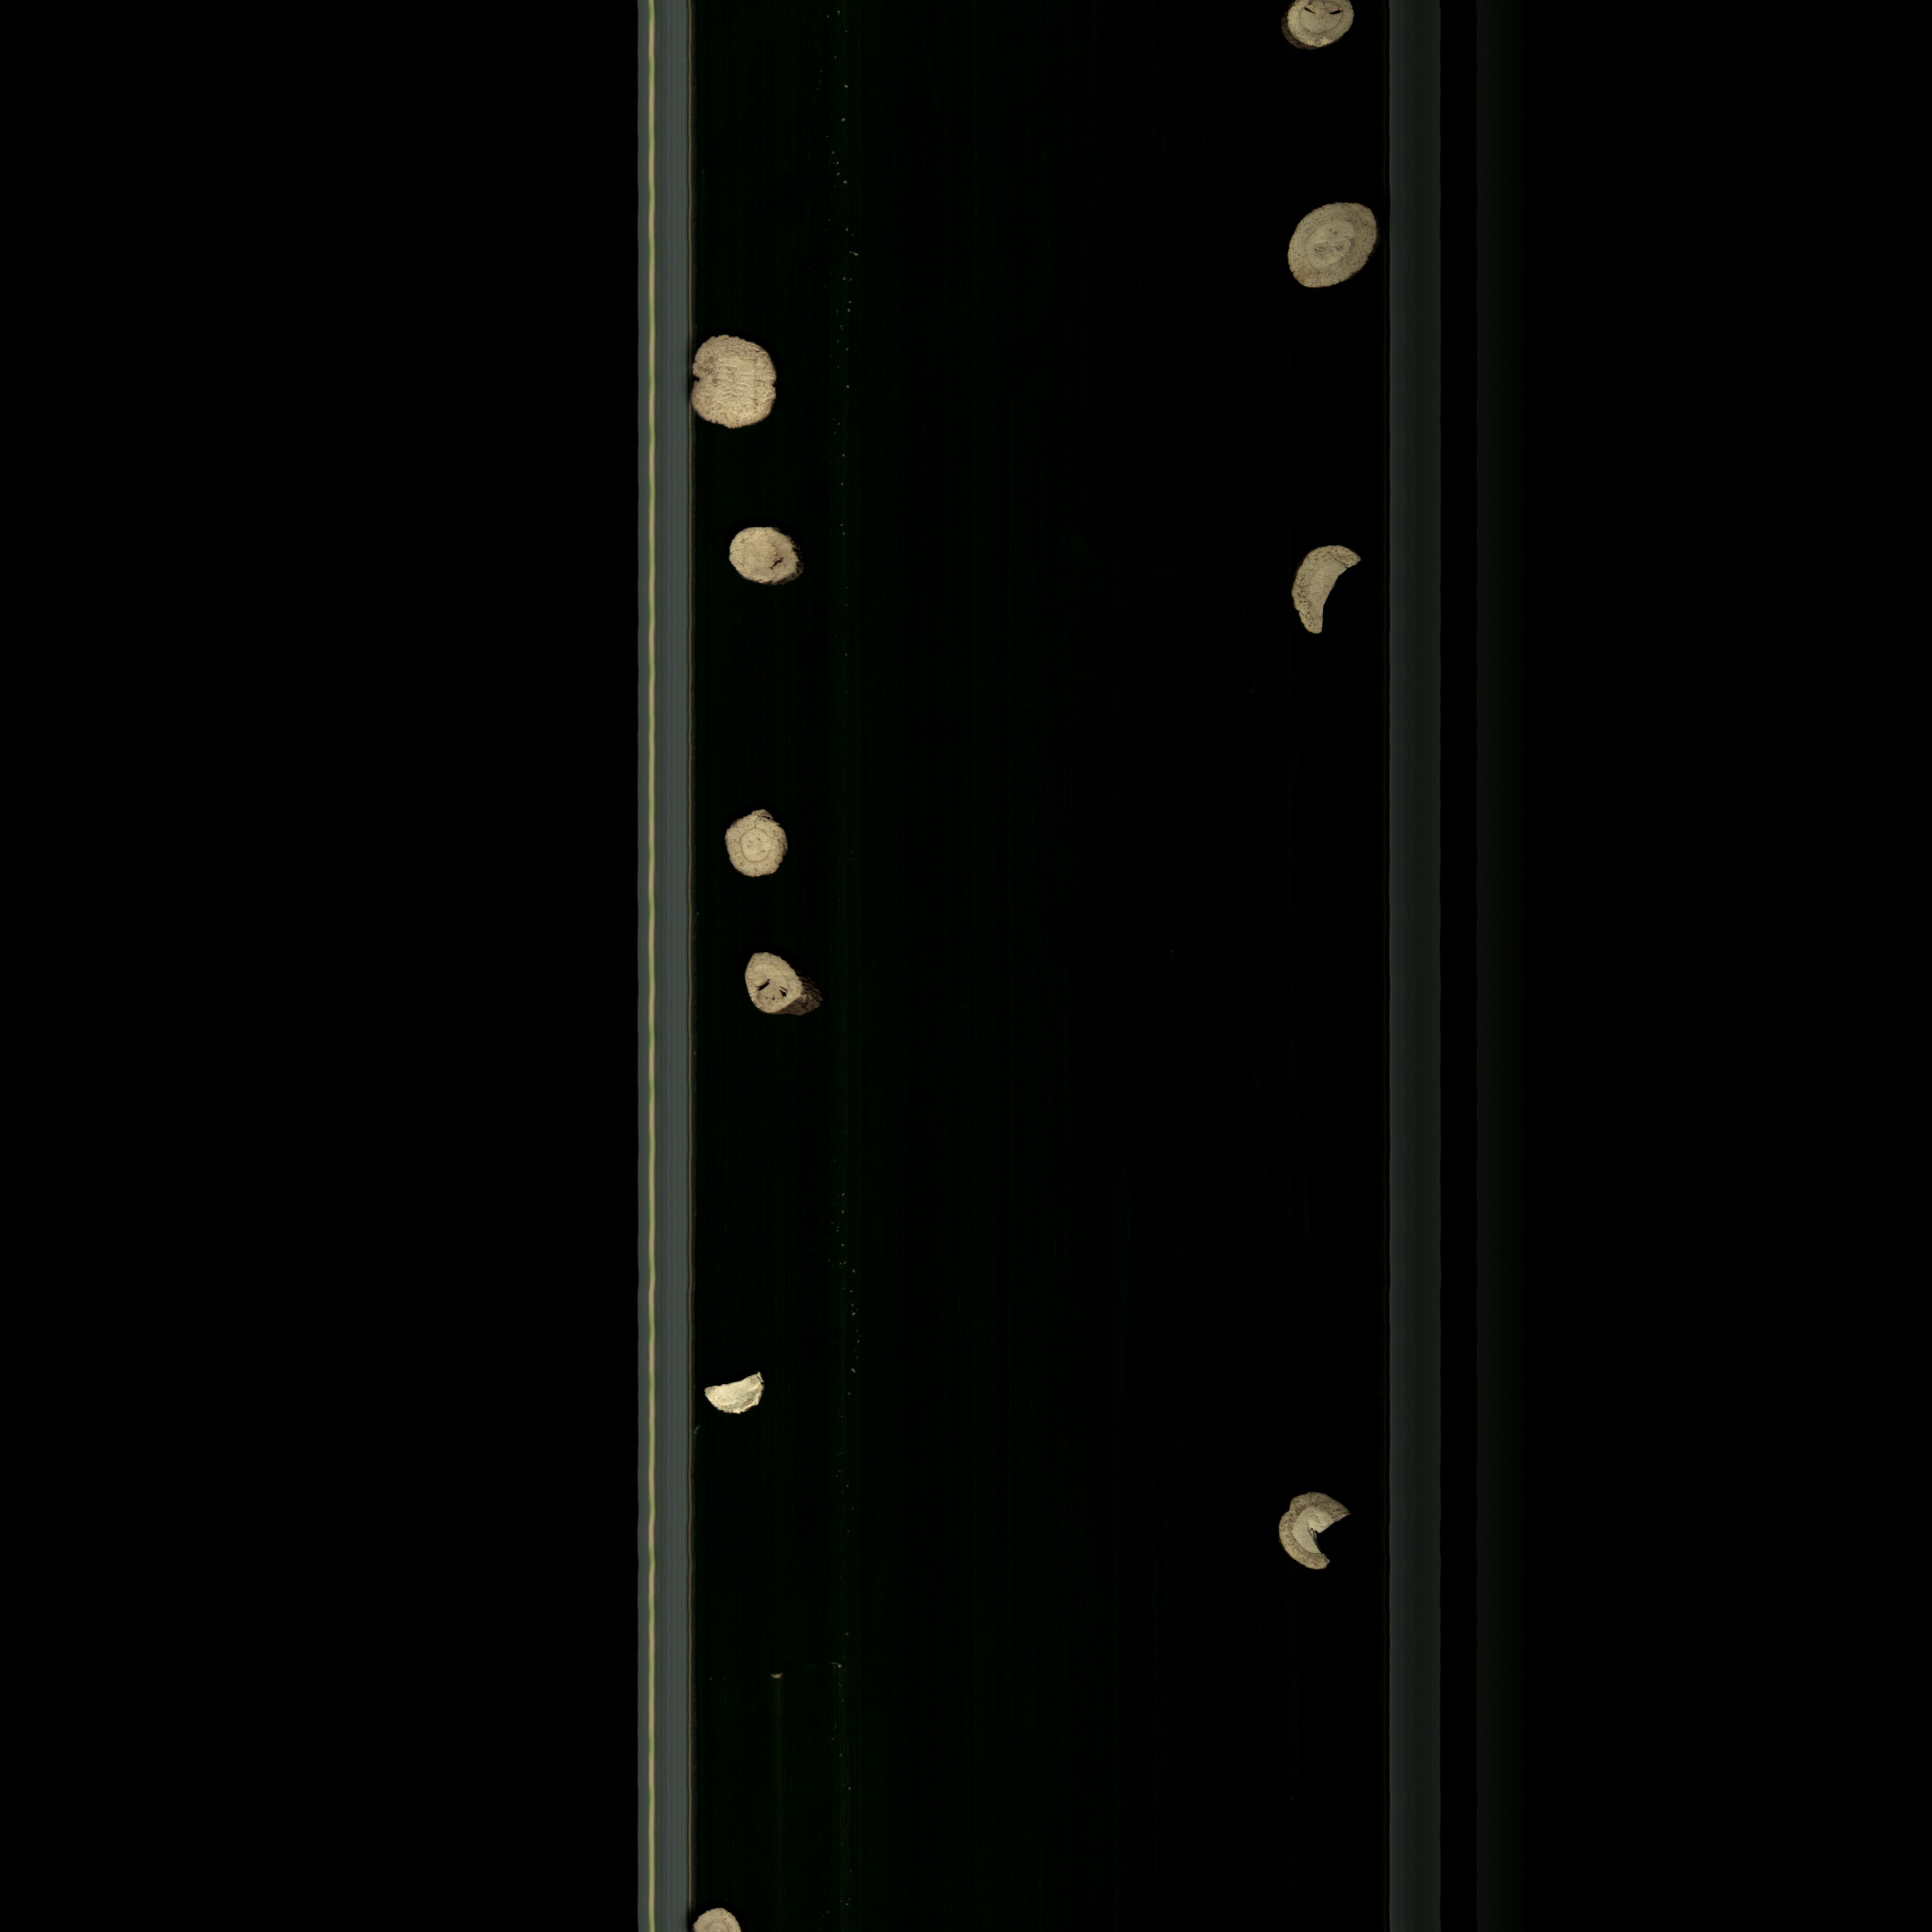debris: (1288, 534, 1373, 649), (695, 1369, 796, 1433)
distortion: (681, 331, 778, 439)
hole: (732, 945, 823, 1028), (720, 522, 809, 593), (1261, 0, 1364, 51)
moldy: (1274, 200, 1387, 297), (1256, 1484, 1355, 1582)
